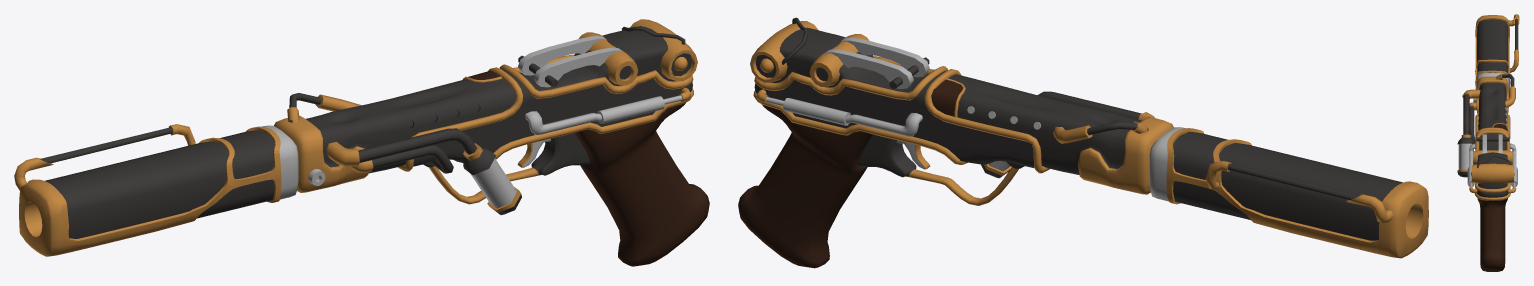
The model's file is pistol.fbx.
3 views of the same model, side by side, from view 1: azimuth 30°, elevation 25°; view 2: azimuth 150°, elevation 25°; view 3: azimuth 270°, elevation 25° (orthographic). The views are drawn at different scales.
Parts seen in each view (by area): view 1: pistol; view 2: pistol; view 3: pistol.
Part boxes in pixels (left/top/right/bottom): pistol: left=14, top=19, right=709, bottom=266; pistol: left=738, top=17, right=1428, bottom=268; pistol: left=1457, top=14, right=1519, bottom=271.
Size of the model in its own units: 1231 by 409 by 197.
